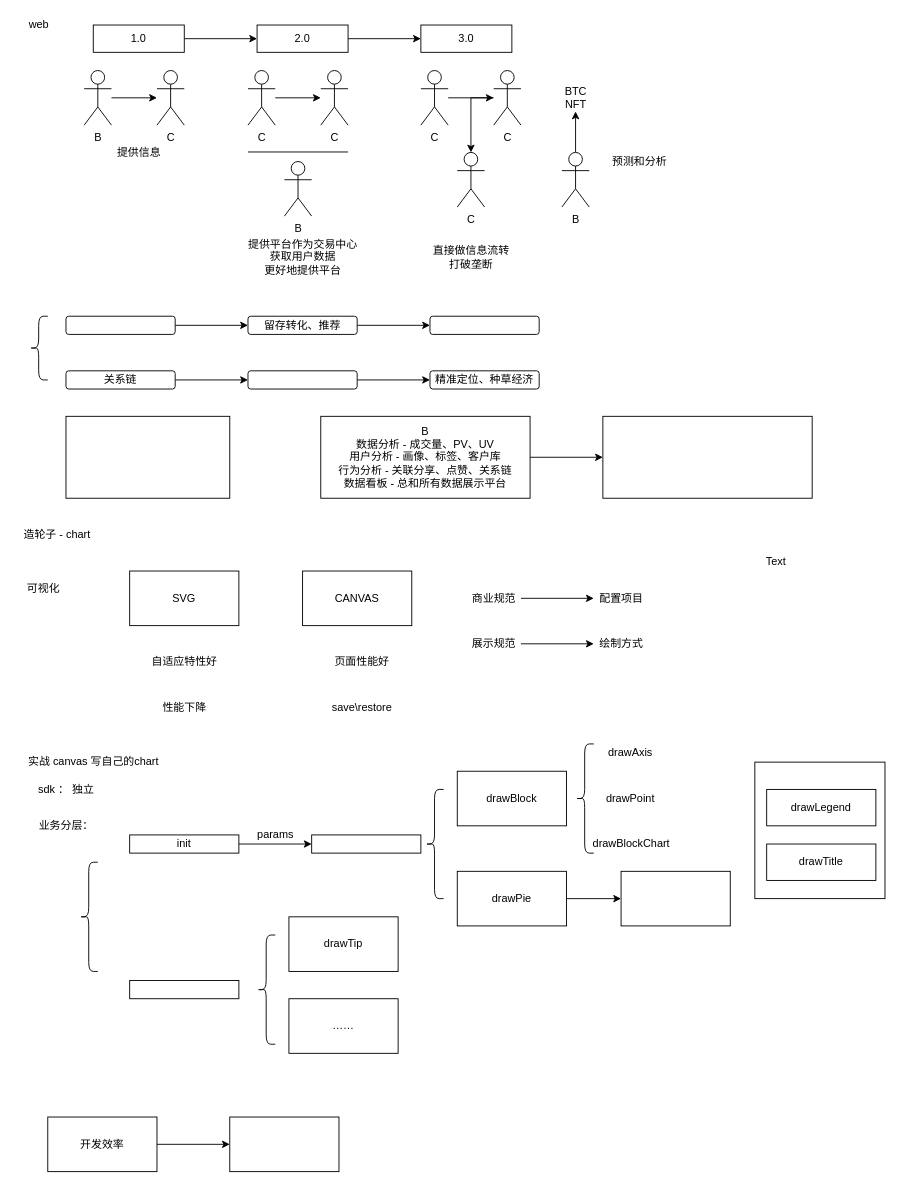
The diagram is 901 pixels wide and 1188 high, and some of its shapes have lost their labels. The shapes that lost their labels are listed below. From the top down, each one's centre as x and y in pixels, then its label:
At (120,324): "数据分析".
At (484,324): "行为分析、促成交易".
At (302,379): "群体分析".
At (147,456): "C 淘宝、京东首页推荐 => 圈子 小红书、抖音直播种草 => 促成 大众点评生活圈 => 关系 朋友圈 => 精准投放".
At (707,456): "图表可视化 商业可视化 规范可视化".
At (366,843): "drawChart".
At (675,898): "drawPieChart".
At (184,989): "listenMouseEvent".
At (284,1144): "低代码".
